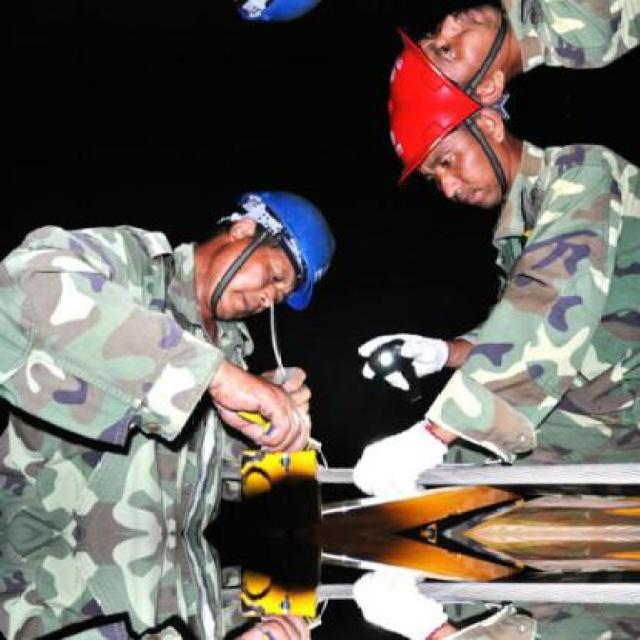helmet: (197, 182, 346, 324), (377, 107, 525, 218), (377, 0, 526, 106), (196, 0, 346, 31)
